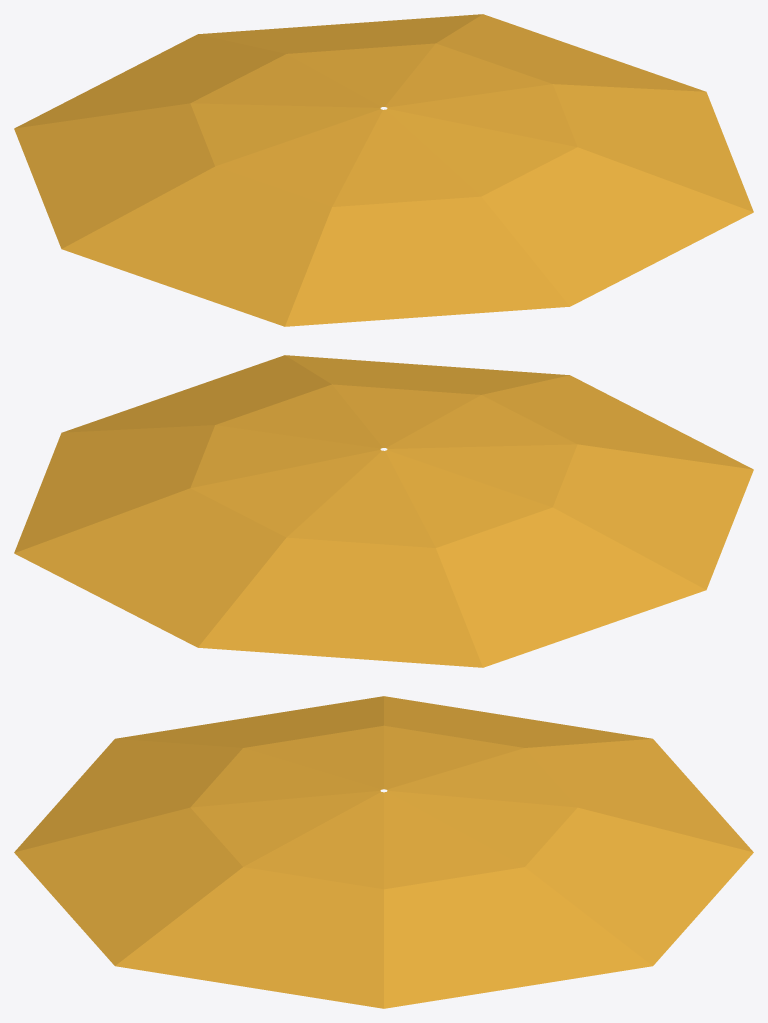
The model's file is umbrella-collider.fbx.
3 views of the same model, one above another, from view 1: azimuth 30°, elevation 25°; view 2: azimuth 150°, elevation 25°; view 3: azimuth 270°, elevation 25° (orthographic).
Parts seen in each view (by area): view 1: Cube.003; view 2: Cube.003; view 3: Cube.003.
Part boxes in pixels (x1,y1,x2,y2): Cube.003: [14, 14, 753, 326]; Cube.003: [14, 355, 753, 667]; Cube.003: [14, 696, 753, 1008].
Size of the model in its own units: 429 by 39.42 by 429.
